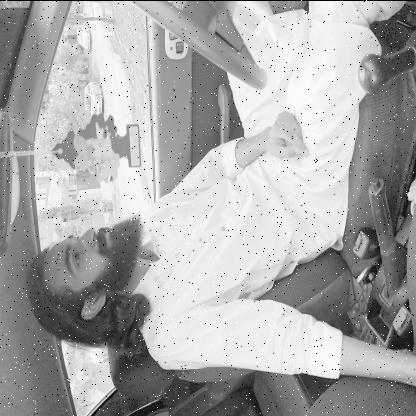no_seatbelt: (16, 184, 280, 346)
